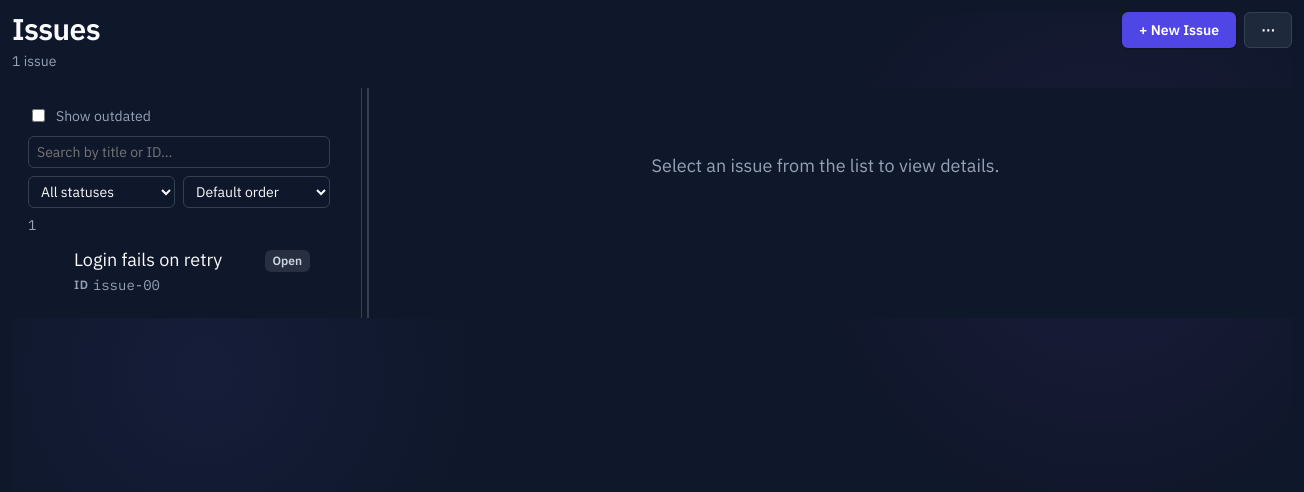
Test: IssueEditors — include_deleted reveals outdated issues (D6) › reveals and badges the outdated issue only after the toggle is on
Click the checkbox with test id "issue-list-include-deleted" at (38, 116), box [32,109,45,122]
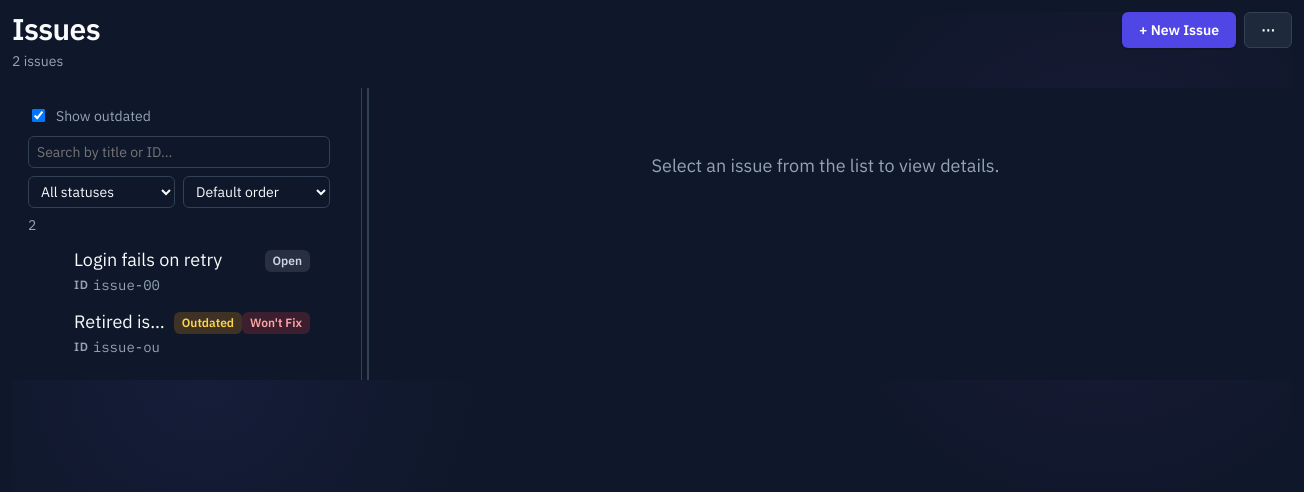
Expected: the element with test id "issue-row-issue-outdated-1" is shown, [59,304,322,364]
Expected: the text "Outdated" is shown, [174,312,242,334]
